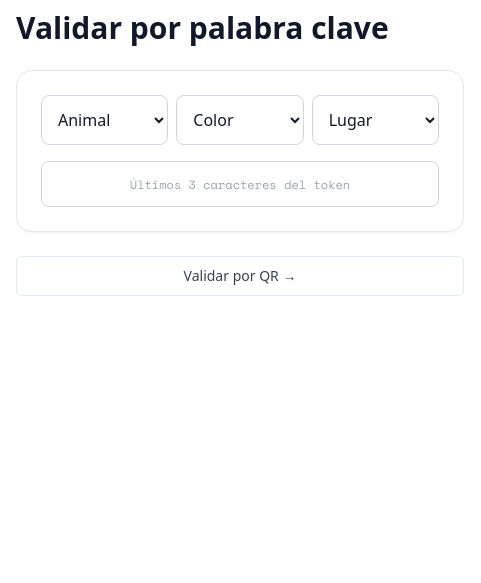
Test: CheckWordPage › resets the form when 'Validar otra entrada' is clicked
Select "lombriz" in the 1st dropdown: (105, 120) [41, 95, 168, 145]
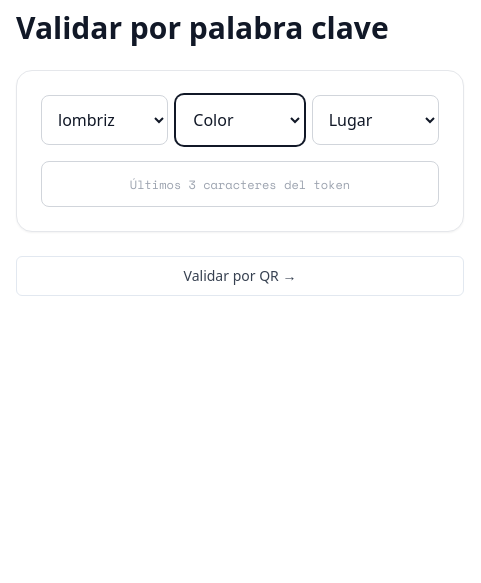
Select "roja" in the 2nd dropdown: (240, 120) [176, 95, 304, 145]
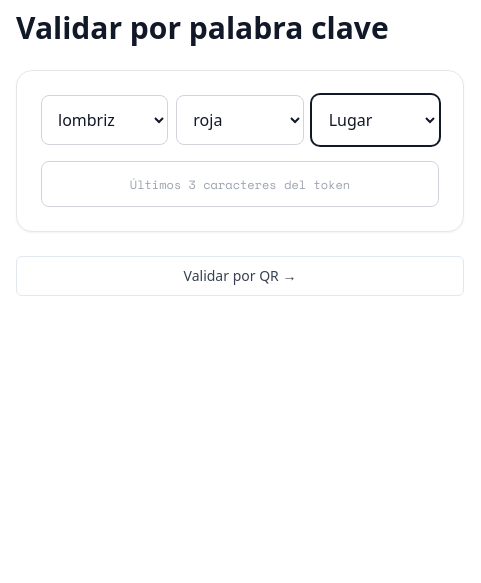
Select "del monte" in the 3rd dropdown: (375, 120) [312, 95, 439, 145]
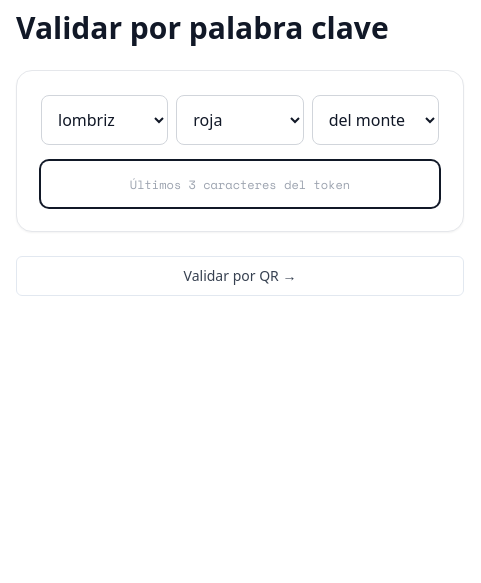
In the field with placeholder "Últimos 3 caracteres del token": (240, 184) [41, 161, 439, 207], type "abc"
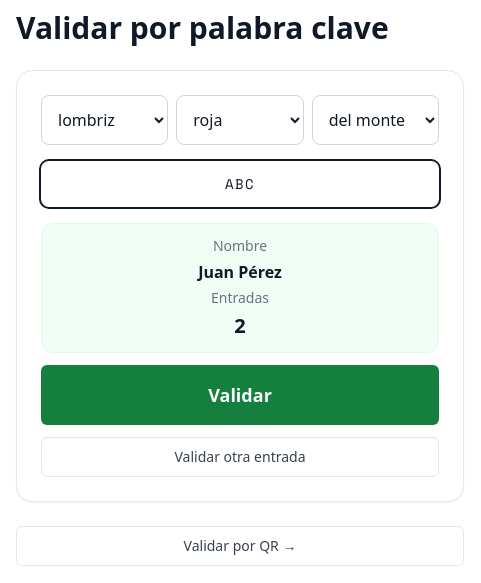
Expected: the button "Validar" is shown, [41, 365, 439, 425]
Click the button "Validar otra entrada": click(240, 457) [41, 437, 439, 477]
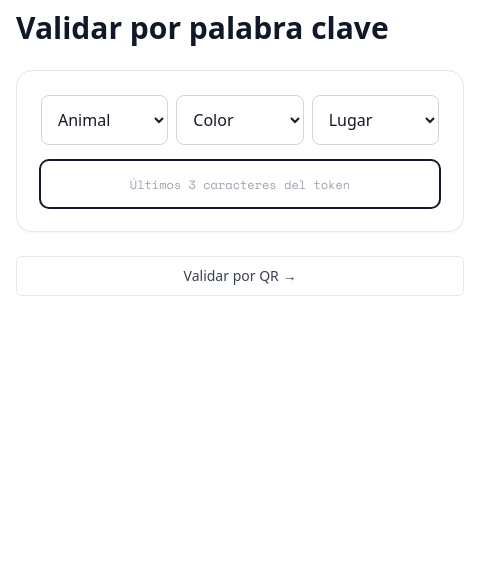
Expected: the button "Validar otra entrada" is gone
